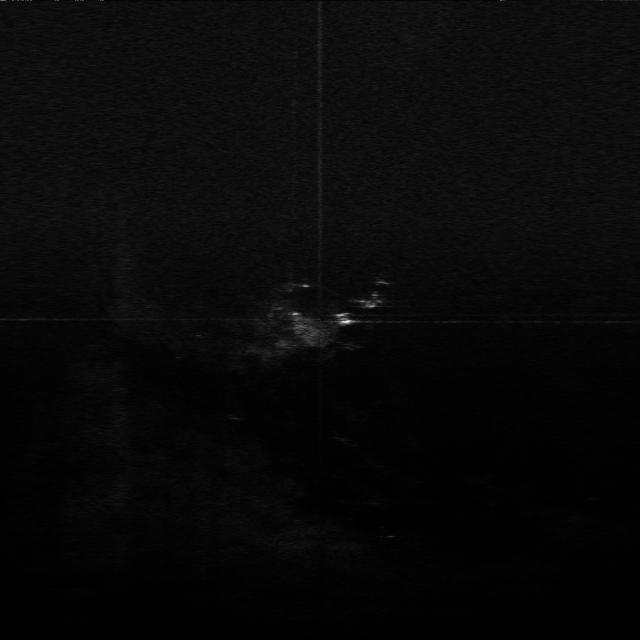rov: (333, 310, 353, 327)
